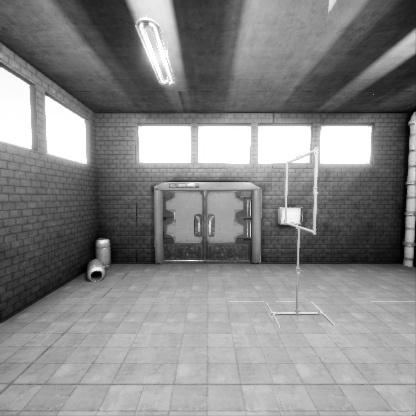gate: (285, 185, 318, 271)
